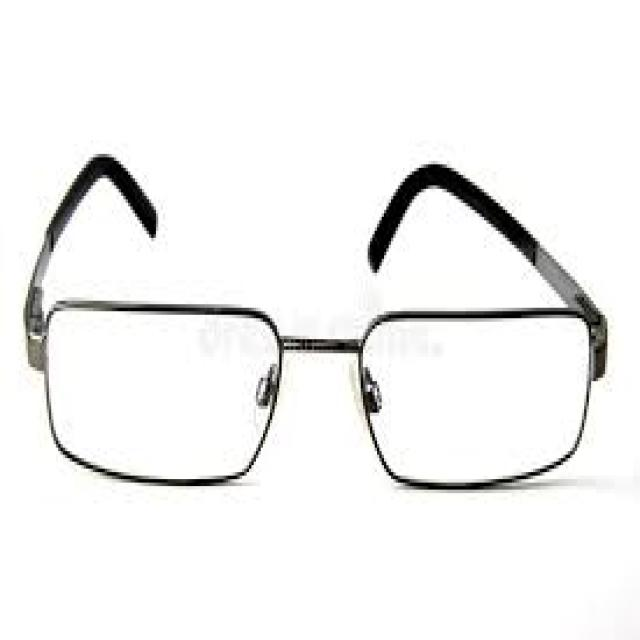specticles: (19, 112, 640, 519)
